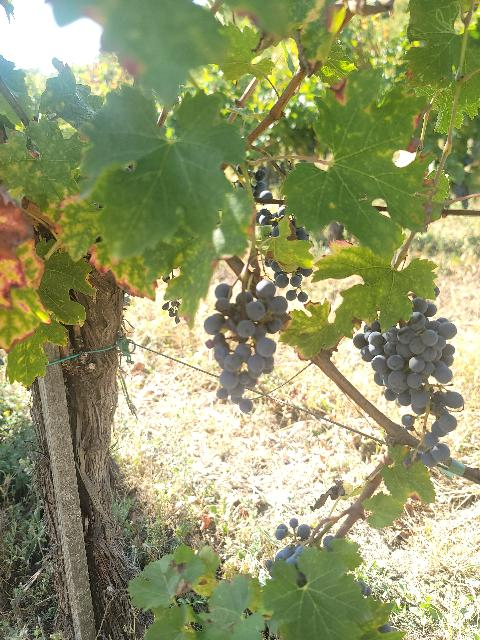grapes: (352, 298, 464, 466), (204, 280, 288, 412)
